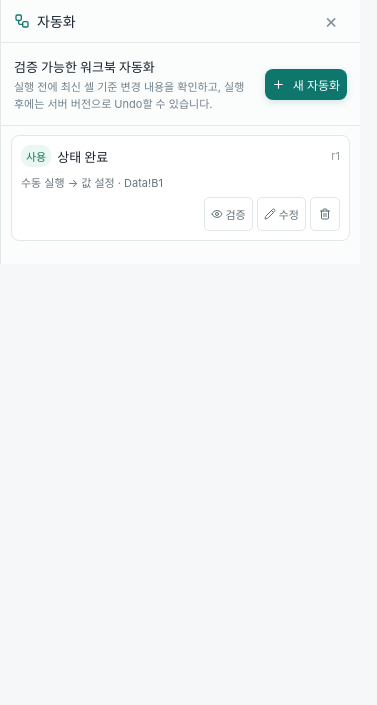
Test: AutomationPanel › disables a preview when the workbook version has advanced
Click the button "검증": click(228, 214) left=204, top=197, right=253, bottom=231
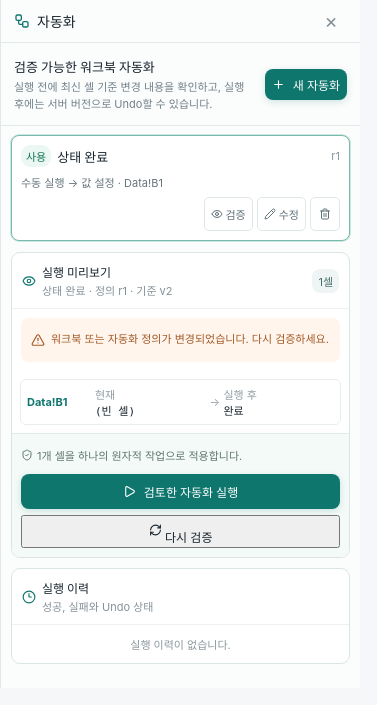
Expected: the text "워크북 또는 자동화 정의가 변경되었습니다. 다시 검증하세요." is shown, left=21, top=318, right=340, bottom=362
Expected: the button "검토한 자동화 실행" is disabled, left=21, top=474, right=340, bottom=509
Expected: the button "다시 검증" is enabled, left=21, top=515, right=340, bottom=548
